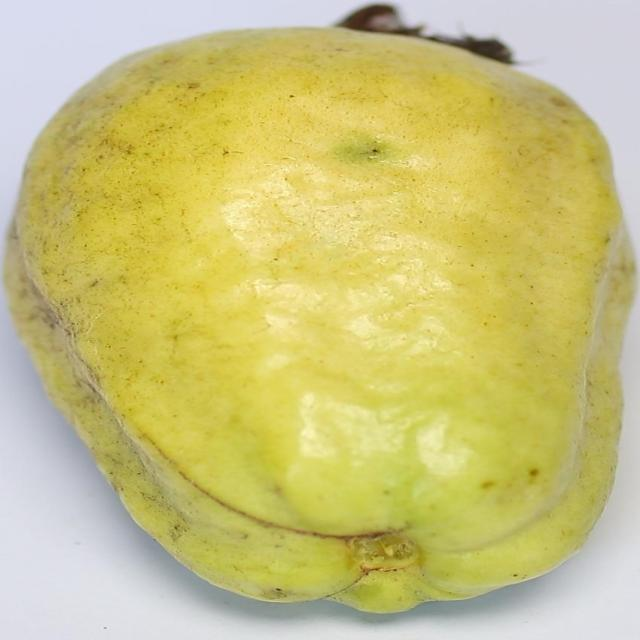Good_Guava: (0, 26, 638, 619)
